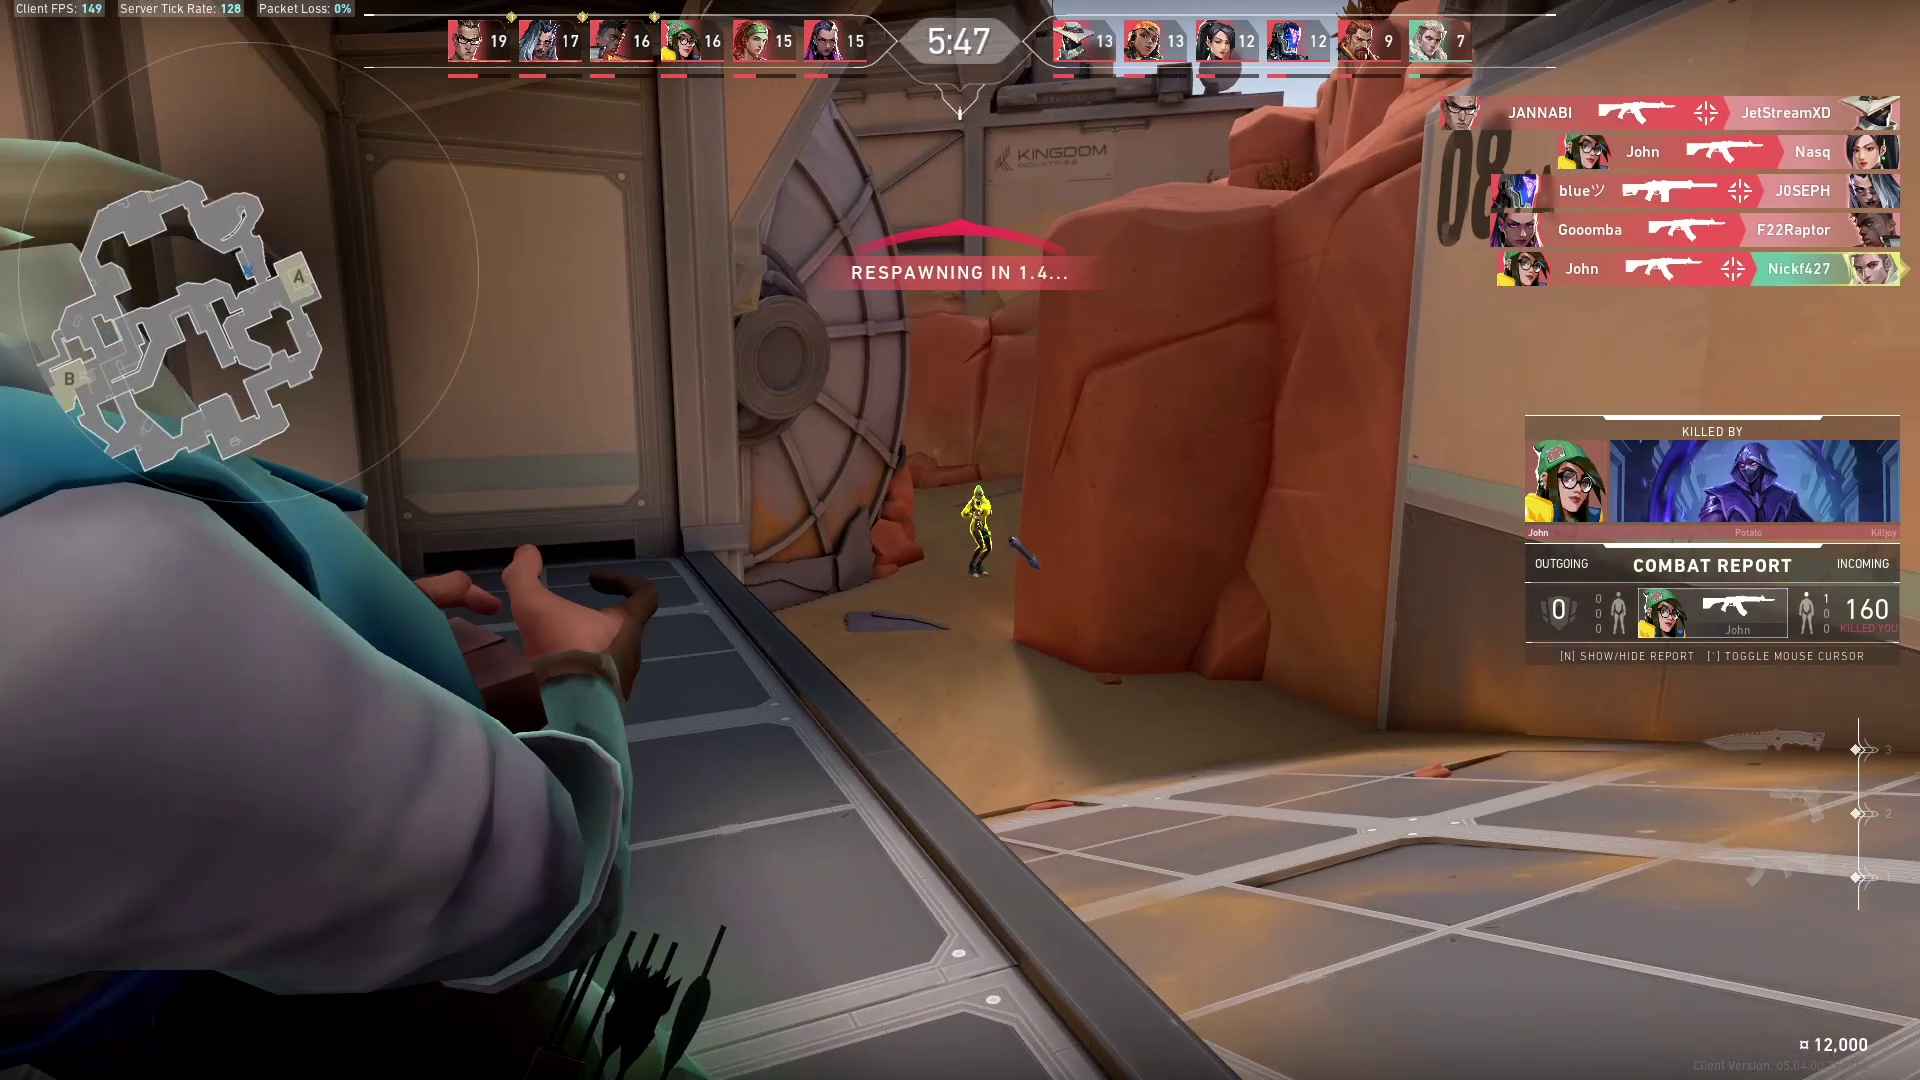enemy_body: (961, 498, 996, 582)
enemy_head: (971, 483, 986, 502)
